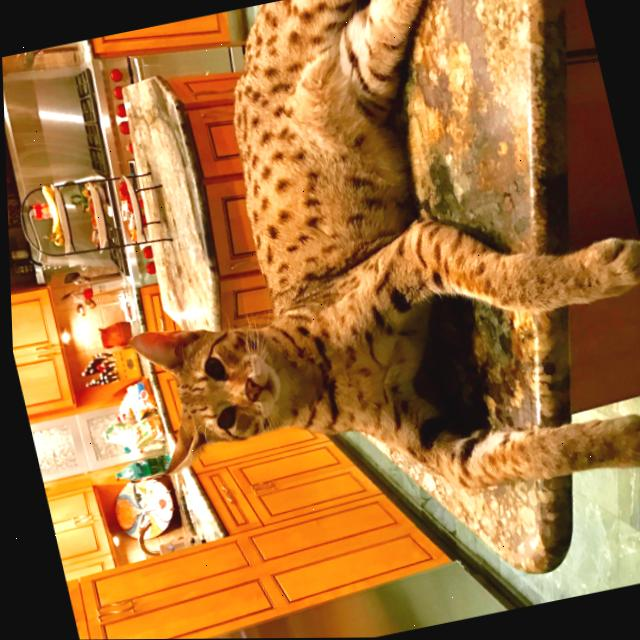Savannah: (53, 0, 640, 566)
